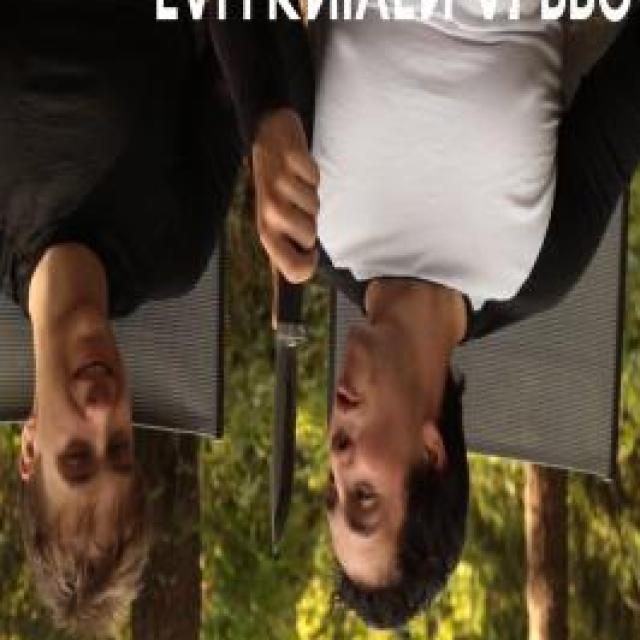knife: (258, 190, 322, 573)
